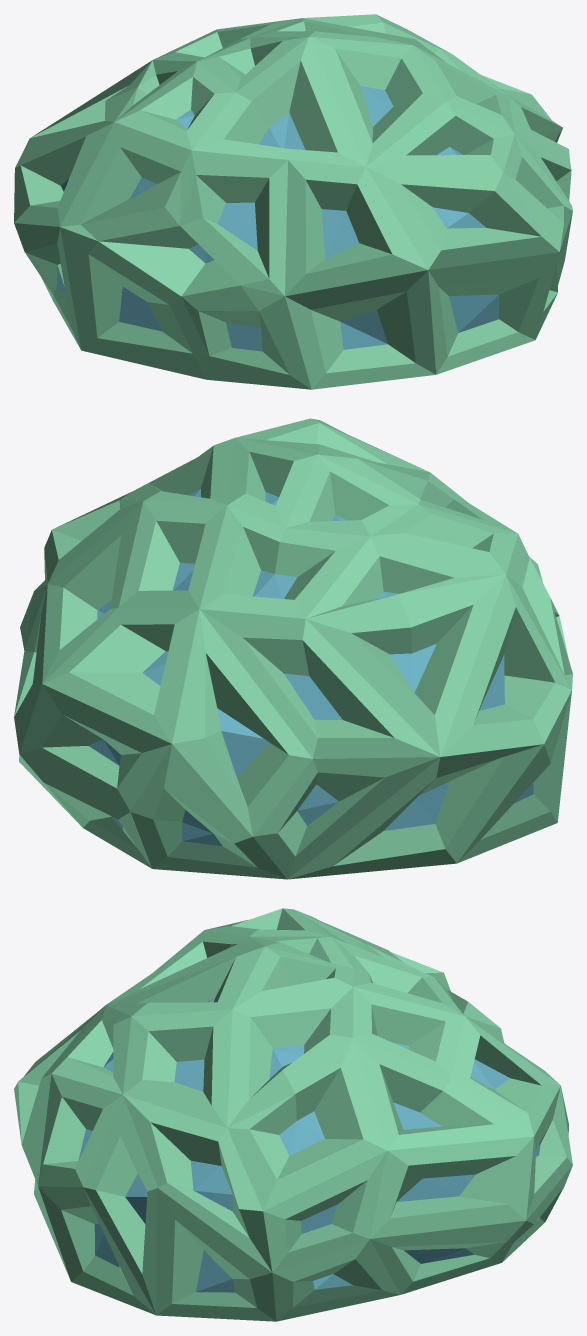
Rendered from Coral15.fbx.
3 views of the same model, one above another, from view 1: azimuth 30°, elevation 25°; view 2: azimuth 150°, elevation 25°; view 3: azimuth 270°, elevation 25° (orthographic). The views are drawn at different scales.
Visible parts, largest first — view 1: Coral15; view 2: Coral15; view 3: Coral15.
Part boxes in pixels (x1,y1,x2,y2): Coral15: (14,14,572,389); Coral15: (14,418,572,879); Coral15: (14,908,572,1321).
Bounding box in the file's own units: 1.51 × 0.7942 × 1.47.
